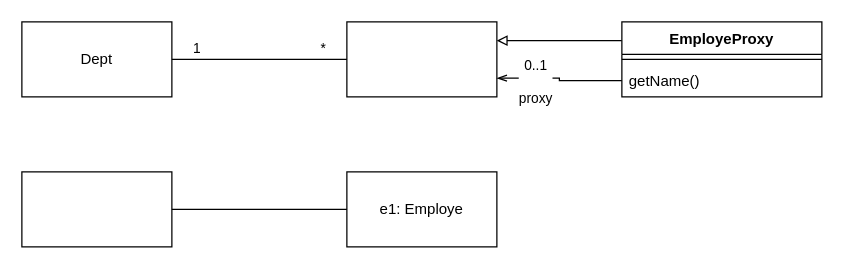
Image size: 844x269. Some labels were removed from this diagram. Each missing label, with the centre of its shape:
d1: Dept: (x=96, y=209)
Employe: (x=421, y=59)
